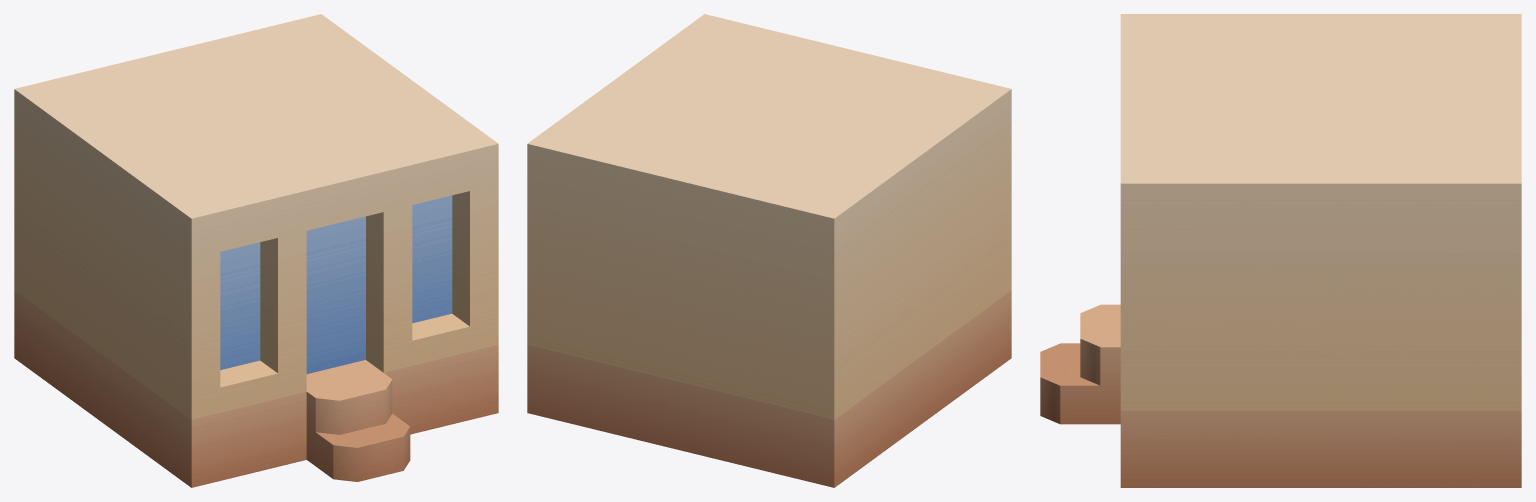
The picture shows the model from 3 angles, left to right: view 1: azimuth 30°, elevation 25°; view 2: azimuth 150°, elevation 25°; view 3: azimuth 270°, elevation 25°; orthographic projection. The views are drawn at different scales.
Visible parts, largest first — view 1: building-steps-narrow-windows; view 2: building-steps-narrow-windows; view 3: building-steps-narrow-windows.
Part boxes in pixels (x1,y1,x2,y2): building-steps-narrow-windows: [14, 14, 498, 487]; building-steps-narrow-windows: [527, 14, 1011, 487]; building-steps-narrow-windows: [1040, 14, 1521, 487].
Size of the model in its own units: 1 by 0.8375 by 1.2.
1 material, 1 textured.
